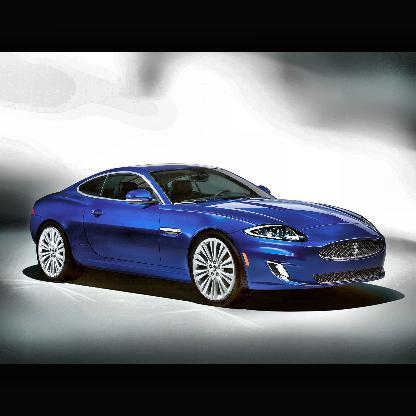Jaguar XK XKR 2012: (31, 166, 388, 305)
